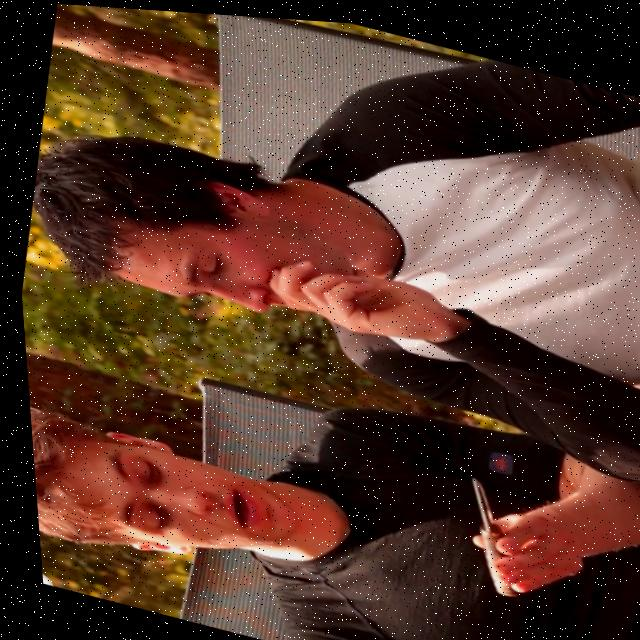knife: (424, 454, 544, 600)
